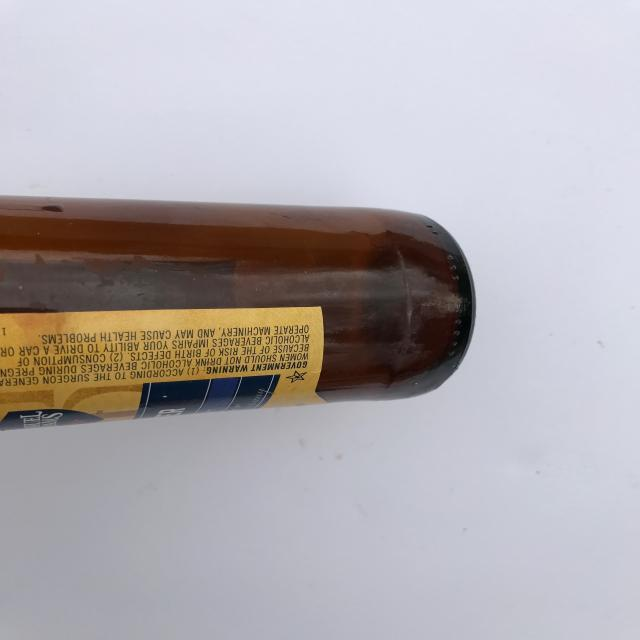glass: (1, 193, 478, 434)
